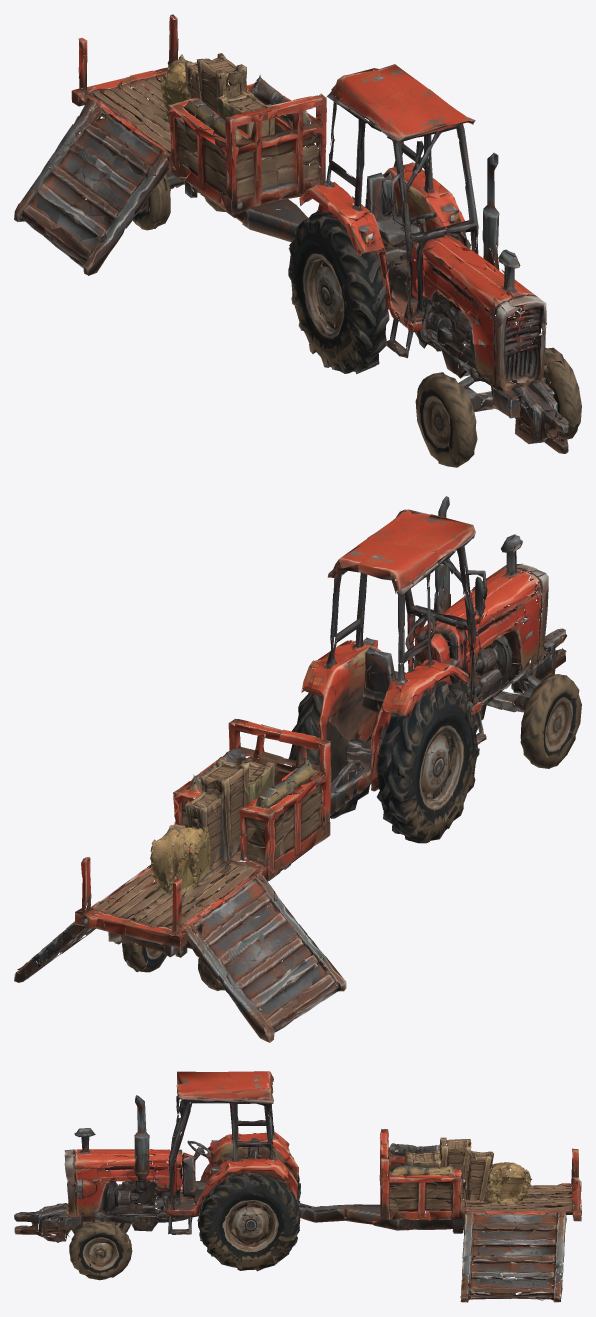
Rendered from Tractor.fbx.
The picture shows the model from 3 angles, top to bottom: view 1: azimuth 30°, elevation 25°; view 2: azimuth 150°, elevation 25°; view 3: azimuth 270°, elevation 25°; orthographic projection. The views are drawn at different scales.
Visible parts, largest first — view 1: Tractor; view 2: Tractor; view 3: Tractor.
Boxes of the visible parts, bbox=[...] form: Tractor: bbox=[14, 14, 581, 467]; Tractor: bbox=[14, 496, 581, 1042]; Tractor: bbox=[14, 1071, 581, 1302].
Size of the model in its own units: 2.48 by 2.6 by 7.32.
Materials: 1 (1 with a texture image).
